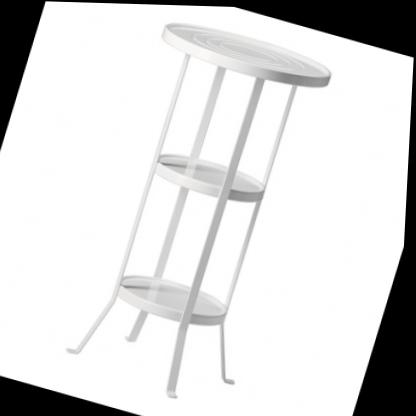Table: (56, 6, 342, 416)
